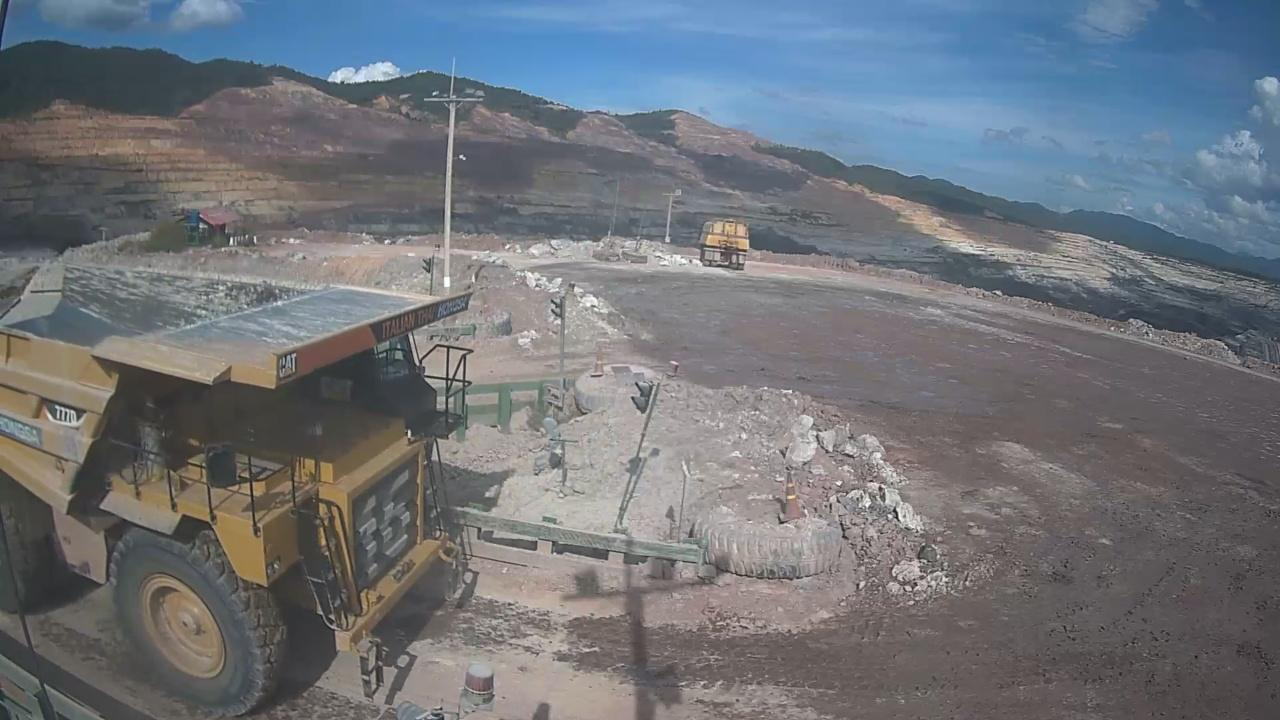empty_load: (47, 273, 261, 339)
front_number: (349, 454, 424, 581)
mining_truck: (0, 237, 530, 716)
truck_size: (33, 396, 88, 426)
